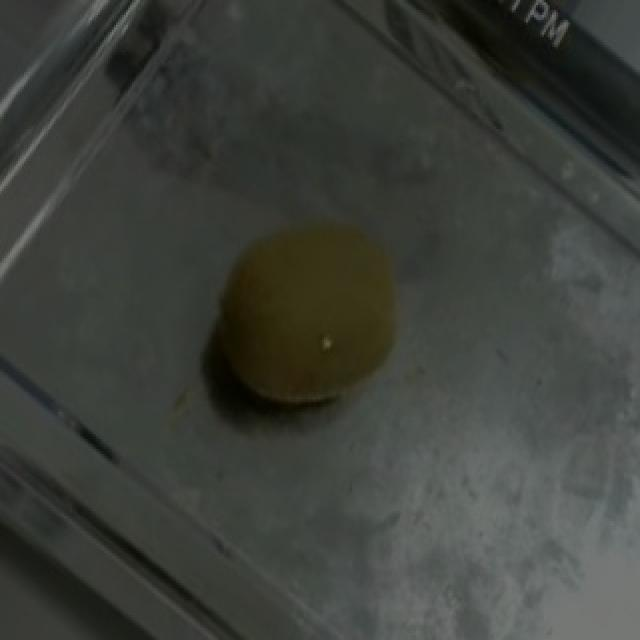Fruit: (168, 176, 448, 452)
